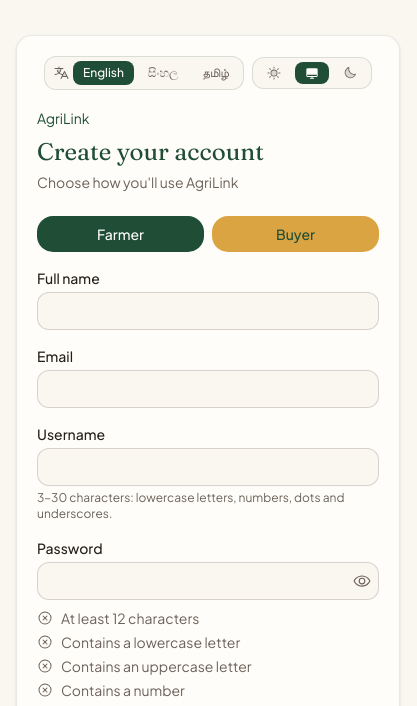
RegisterPage › switching to Buyer swaps in the business fields and drops the farmer ones
Click the button "Buyer" at (296, 234), box [212, 216, 379, 252]
(page scrolled)
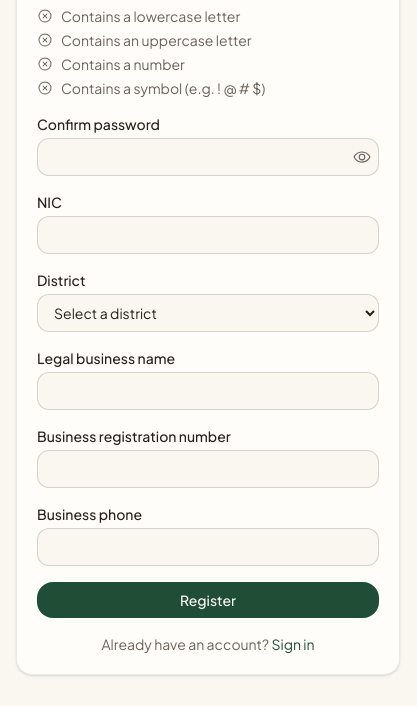
Expected: the field labelled "Legal business name" is shown, [37, 372, 379, 410]
Expected: the field labelled "Business phone" is shown, [37, 528, 379, 566]
